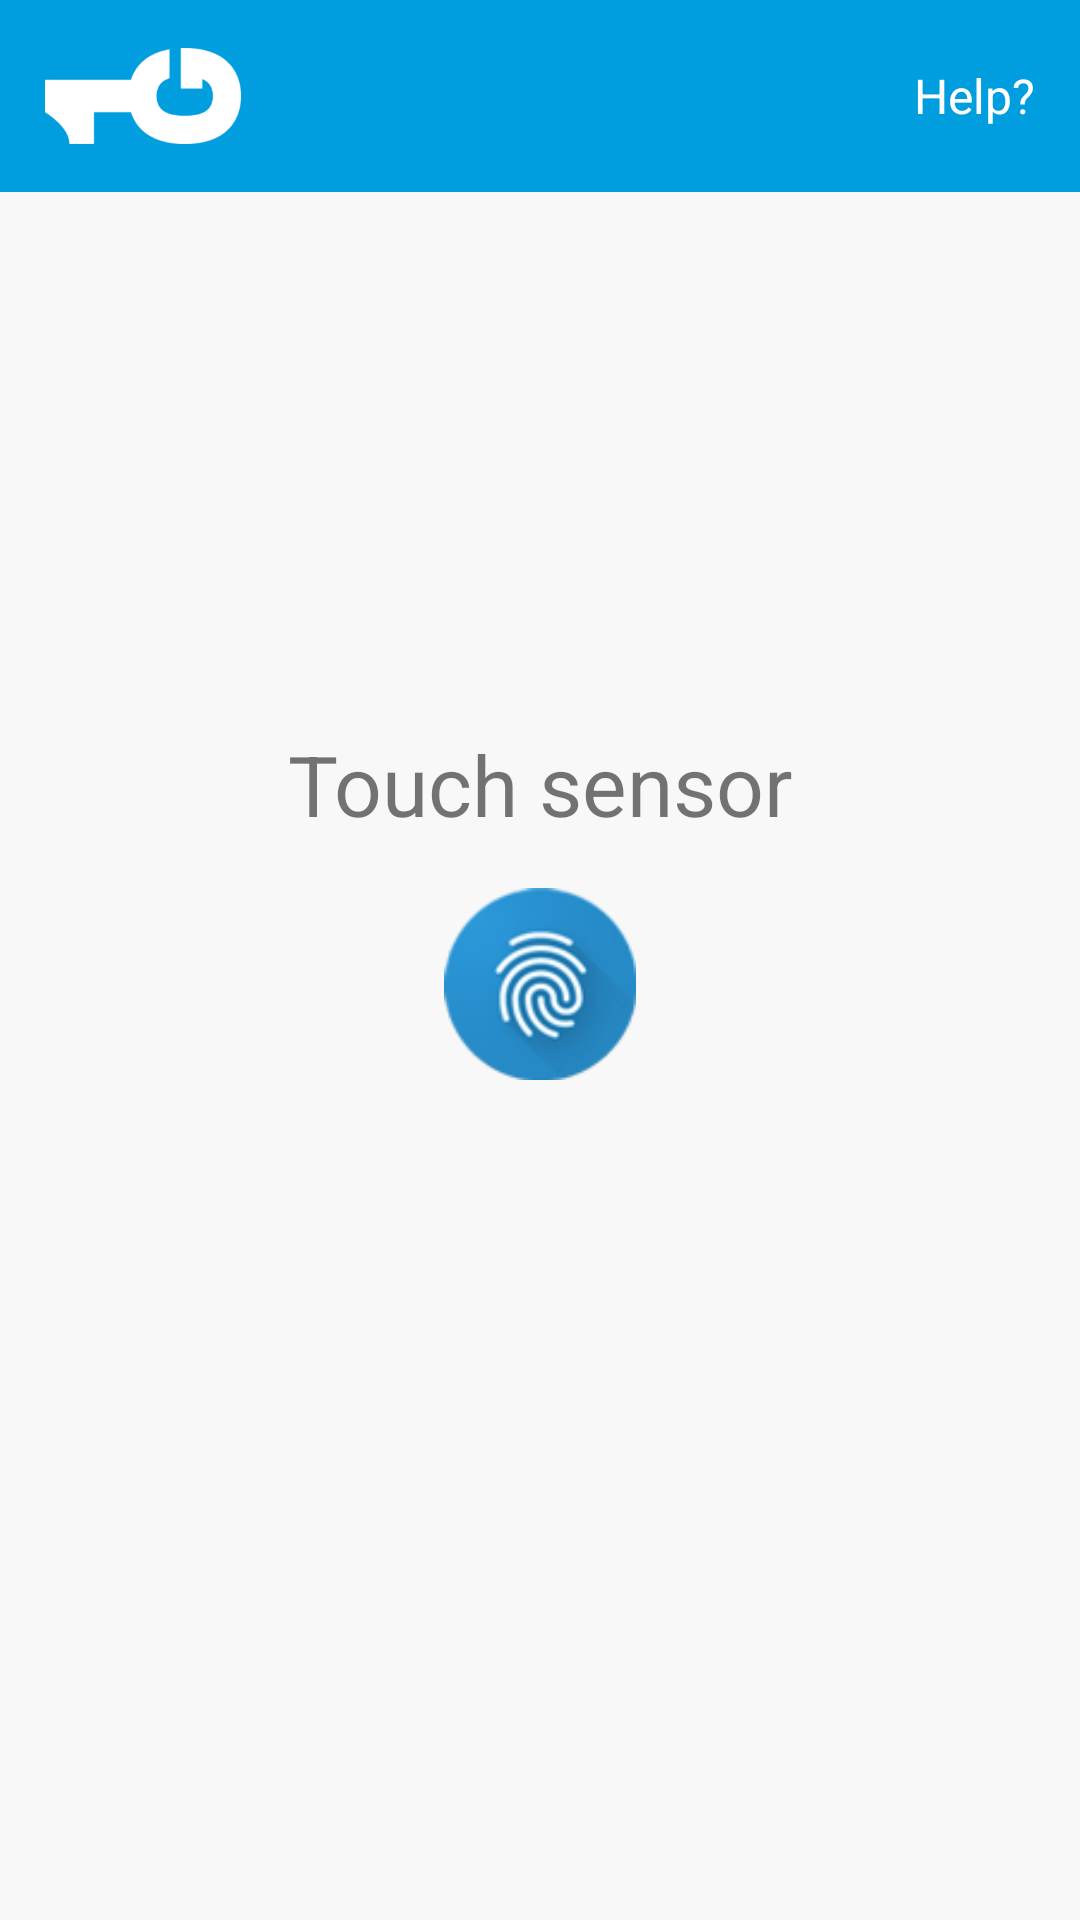

Named icons in this screenshot (1080px x 1920px) and their bounding boxes, (x1, y1, x2, y2):
fingerprint: (444, 888, 636, 1080)
